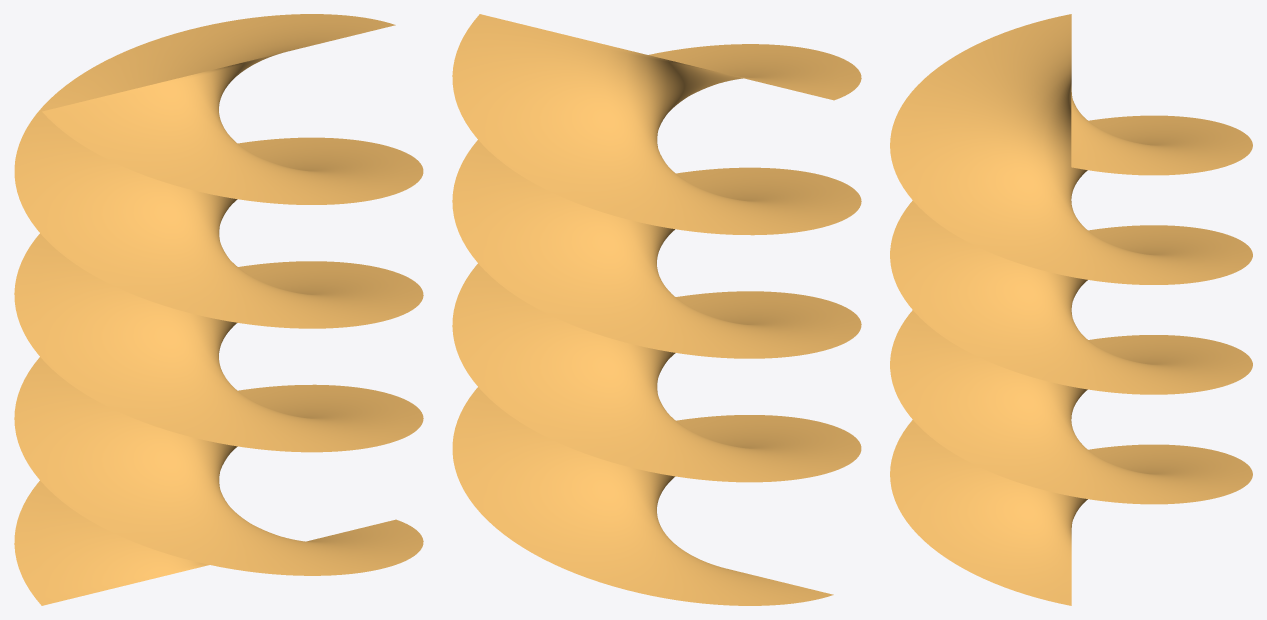
The model's file is helicoid.glb.
3 renders of one model, left to right at view 1: azimuth 30°, elevation 25°; view 2: azimuth 150°, elevation 25°; view 3: azimuth 270°, elevation 25°, orthographic. The views are drawn at different scales.
Size of the model in its own units: 0.45 by 0.6 by 0.45.
